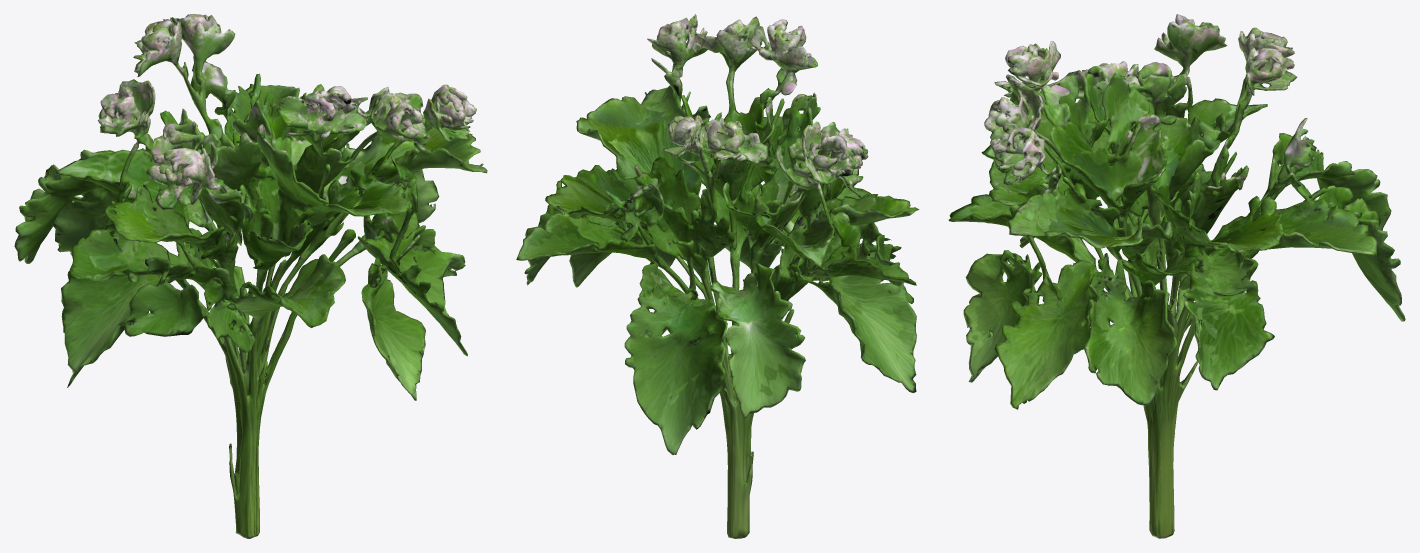
The model's file is coriander.glb.
3 renders of one model, left to right at view 1: azimuth 30°, elevation 25°; view 2: azimuth 150°, elevation 25°; view 3: azimuth 270°, elevation 25°, orthographic. The views are drawn at different scales.
Size of the model in its own units: 1.69 by 2 by 1.68.
Materials: 1 (1 with a texture image).
